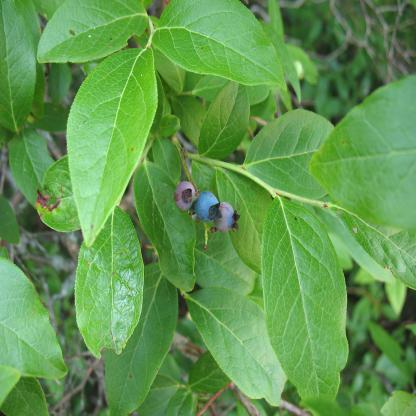Blueberry leaf: (253, 184, 360, 416), (61, 46, 160, 246), (308, 67, 416, 241), (174, 280, 288, 416), (62, 188, 145, 374), (154, 3, 305, 102), (122, 156, 202, 304), (235, 110, 360, 204), (192, 78, 254, 176)
